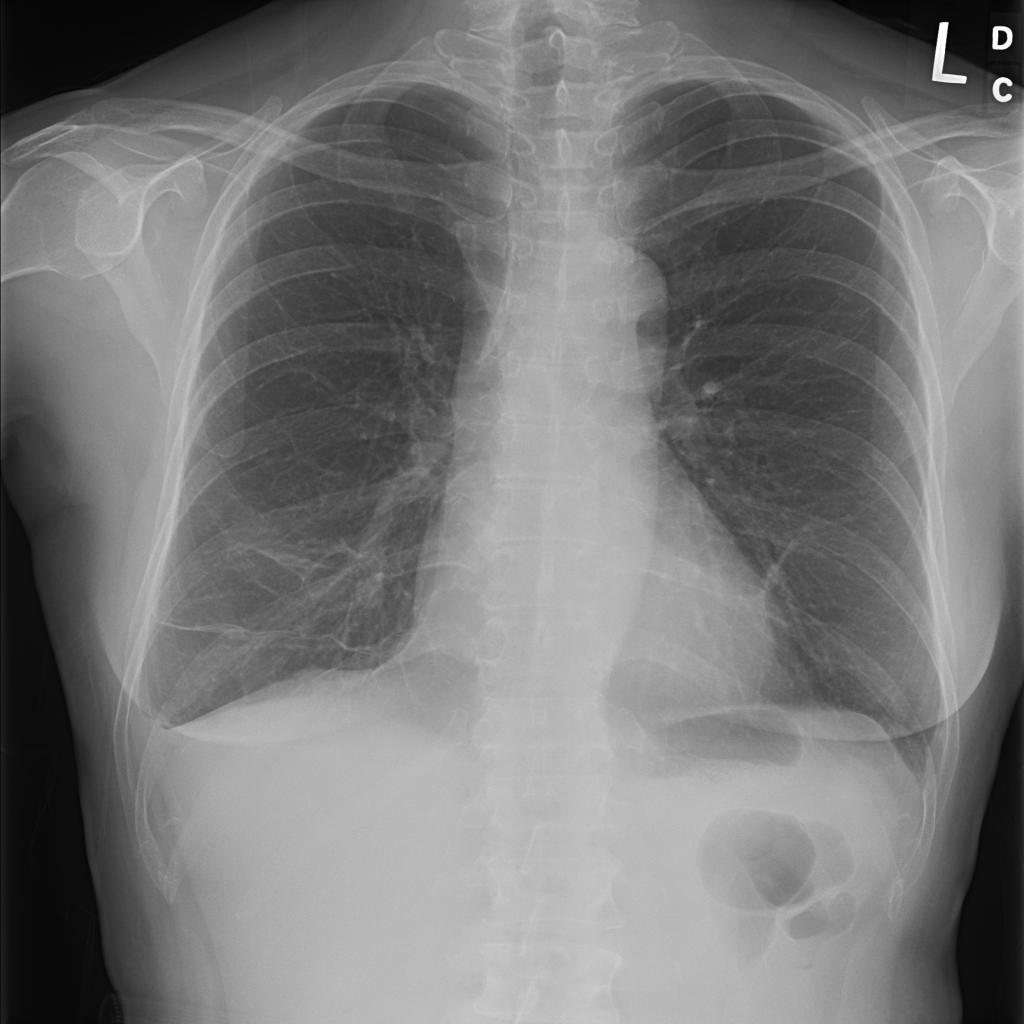Nodule: (201, 288, 237, 314)
